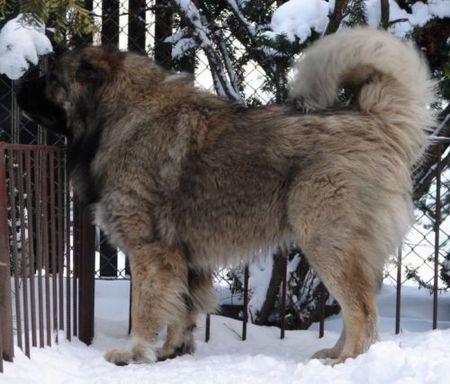cau_ovcharka: (13, 23, 442, 365)
